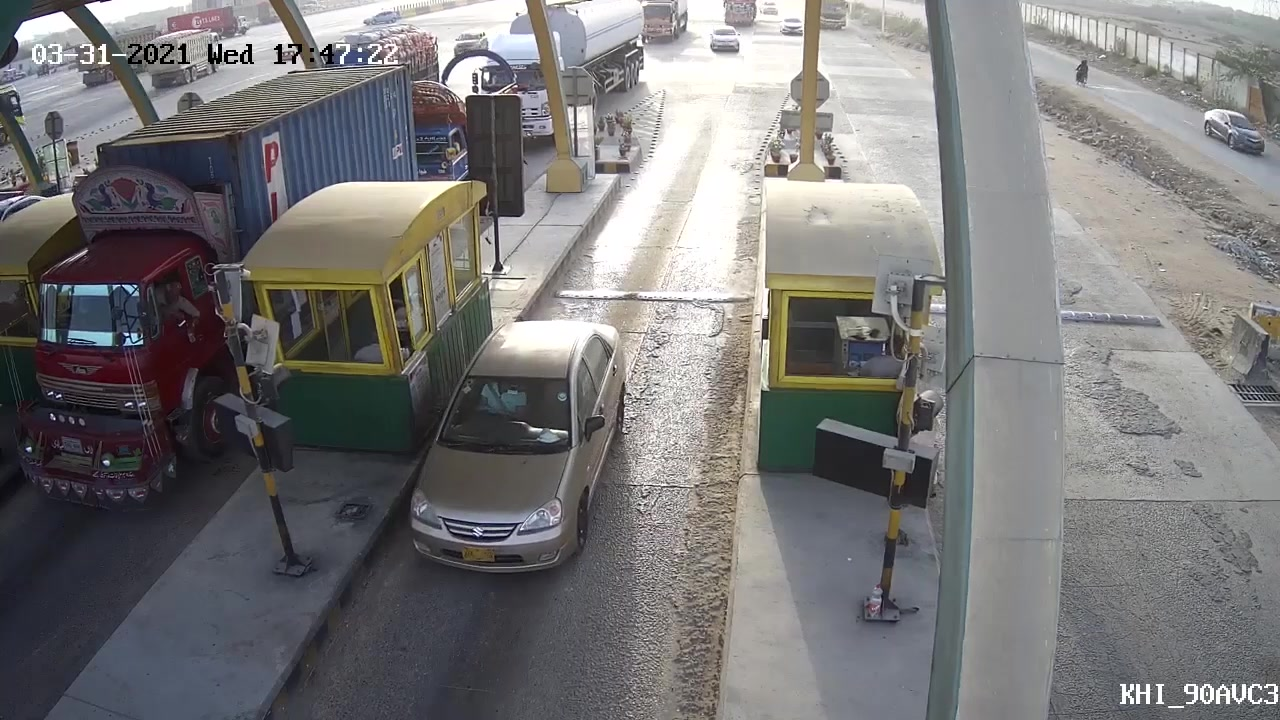F1: (398, 308, 638, 592)
